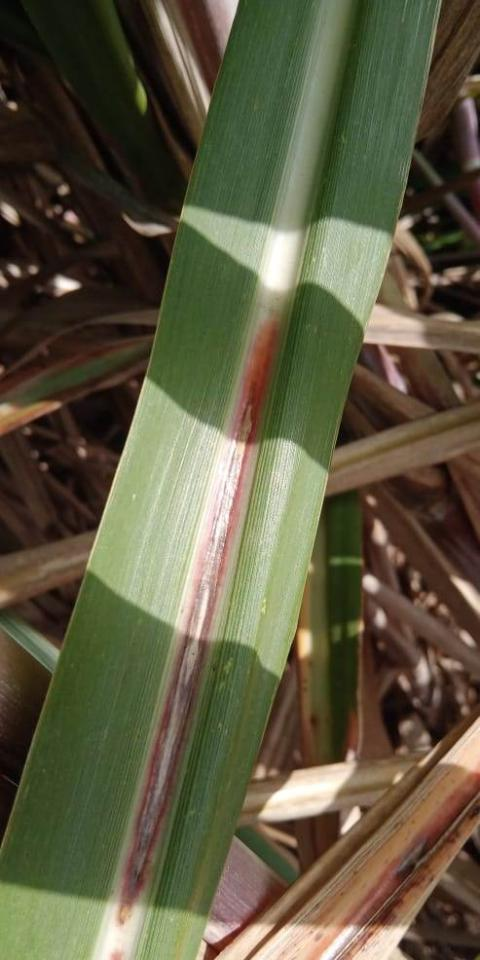RedRot: (117, 316, 278, 929)
